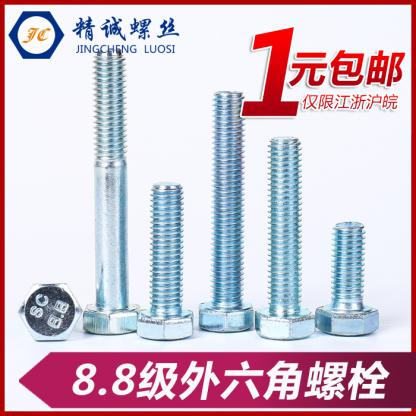FOD: (82, 48, 141, 337), (197, 90, 255, 336), (257, 132, 316, 341), (135, 179, 195, 342), (317, 217, 380, 336), (16, 280, 82, 343)
